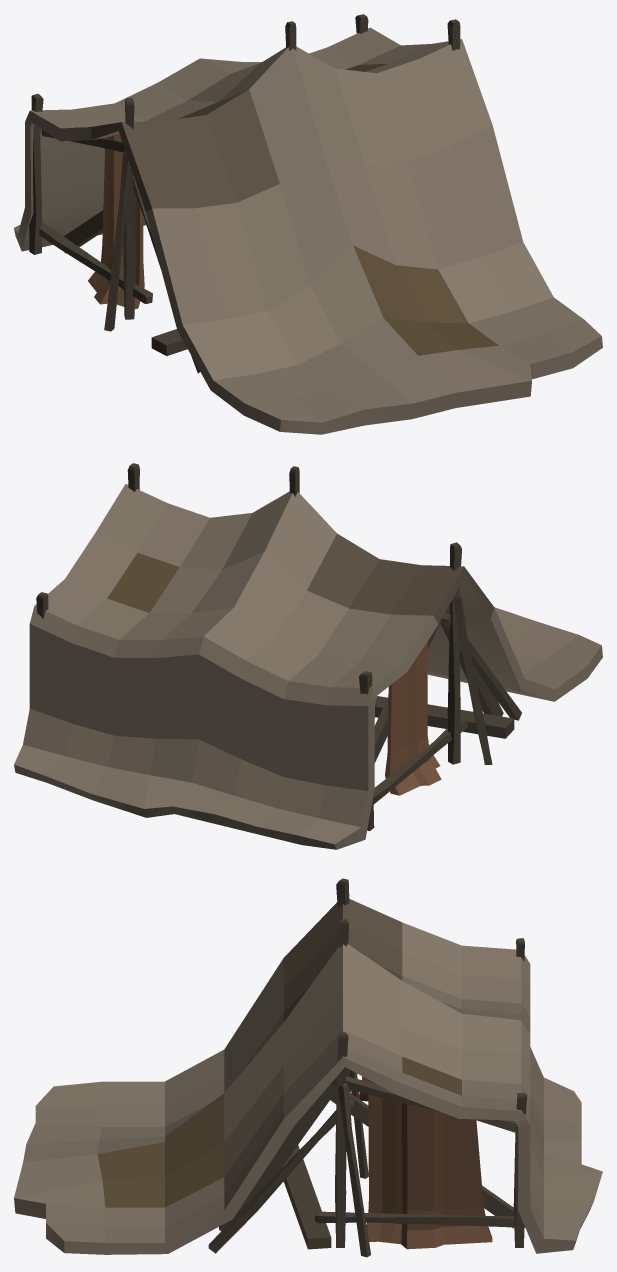
File: SM_Bld_Tent_05.glb
3 renders of one model, top to bottom at view 1: azimuth 30°, elevation 25°; view 2: azimuth 150°, elevation 25°; view 3: azimuth 270°, elevation 25°, orthographic. The views are drawn at different scales.
Visible parts, largest first — view 1: SM_Bld_Tent_05; view 2: SM_Bld_Tent_05; view 3: SM_Bld_Tent_05.
Part boxes in pixels (x1,y1,x2,y2): SM_Bld_Tent_05: [14, 14, 602, 434]; SM_Bld_Tent_05: [14, 463, 602, 849]; SM_Bld_Tent_05: [14, 878, 602, 1257].
Size of the model in its own units: 0.0422 by 0.0284 by 0.0585.
